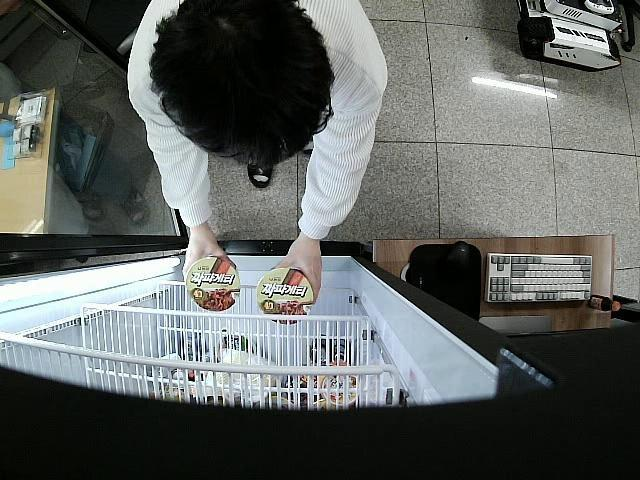03_chapagetti_L: (255, 270, 312, 326), (184, 258, 238, 313)
